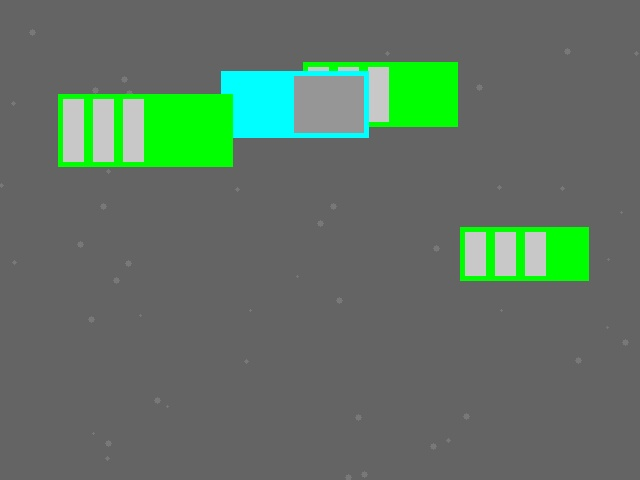bus: (58, 94, 232, 166), (303, 62, 457, 126), (460, 227, 588, 280)
truck: (221, 71, 368, 137)
